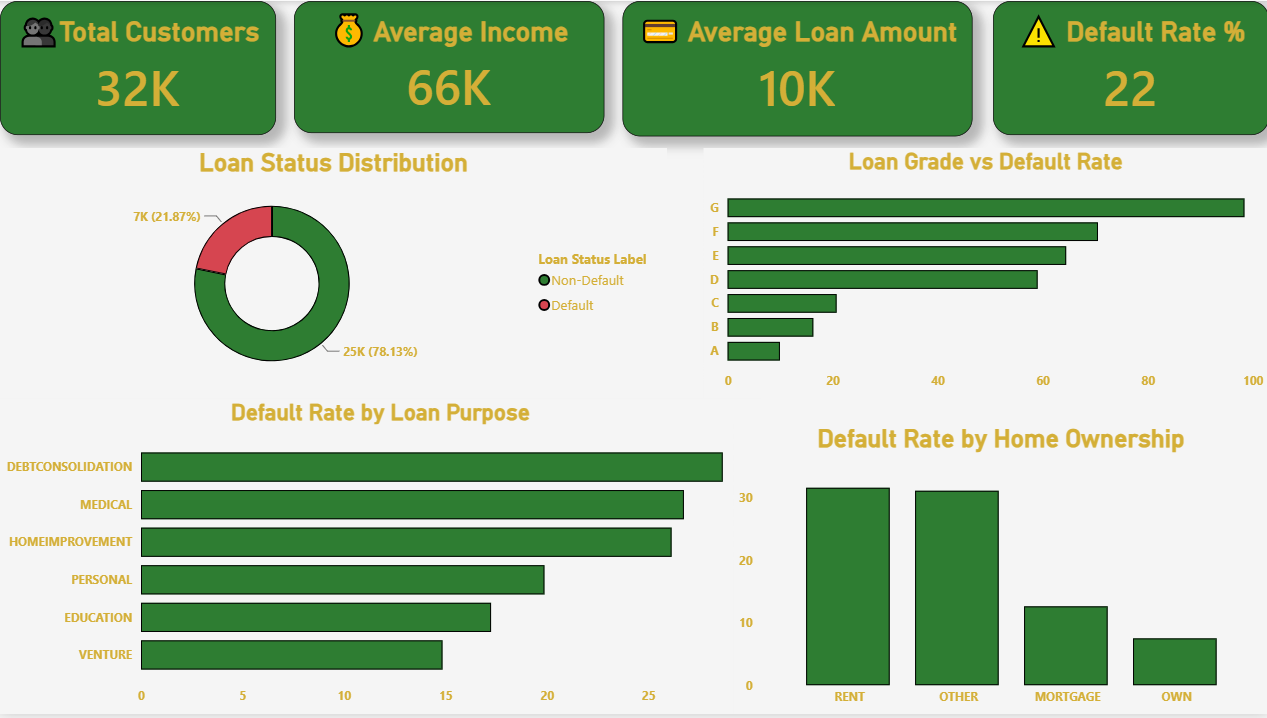

Layout of this report page (visuals, bound fields, positions):
{"tool":"powerbi","page":{"name":"Executive Summary","canvas":[1280,720],"ordinal":1},"visuals":[{"type":"cardVisual","title":"👥Total Customers","fields":{"Data":["Measurement.Total_customer"]},"box":[0,0,278.3,135],"z":0},{"type":"cardVisual","title":"⚠️ Default Rate %","fields":{"Data":["Measurement.defualt_rate"]},"box":[1001.7,0,278.3,135],"z":1000},{"type":"cardVisual","title":"💰 Average Income","fields":{"Data":["Measurement.Average Income"]},"box":[296.7,0,313.3,133.3],"z":2000},{"type":"cardVisual","title":"💳 Average Loan Amount","fields":{"Data":["Measurement.Average Loan Amount"]},"box":[628.3,0,353.3,136.7],"z":3000},{"type":"clusteredBarChart","title":"Loan Grade vs Default Rate","fields":{"Category":["credit_risk_dataset.loan_grade"],"Y":["Measurement.defualt_rate"]},"box":[710,148.3,570,253.3],"z":4000},{"type":"clusteredBarChart","title":"Default Rate by Loan Purpose","fields":{"Category":["credit_risk_dataset.loan_intent"],"Y":["Measurement.defualt_rate"]},"box":[0,401.7,768.3,318.3],"z":5000},{"type":"clusteredColumnChart","title":"Default Rate by Home Ownership","fields":{"Category":["credit_risk_dataset.person_home_ownership"],"Y":["Measurement.defualt_rate"]},"box":[740,426.7,540,293.3],"z":6000},{"type":"donutChart","title":"Loan Status Distribution","fields":{"Category":["credit_risk_dataset.Loan Status Label"],"Y":["Measurement.Total_customer"]},"box":[0,148.3,673.3,241.7],"z":7000}]}

Visuals, with their boxes in screenshot pixels (x1, y1, x2, y2), scaled from the page's 1280x720 canvas onto the 1267x718 screenshot:
"👥Total Customers" cardVisual: region(0, 0, 275, 135)
"⚠️ Default Rate %" cardVisual: region(992, 0, 1266, 135)
"💰 Average Income" cardVisual: region(294, 0, 604, 133)
"💳 Average Loan Amount" cardVisual: region(622, 0, 972, 136)
"Loan Grade vs Default Rate" clusteredBarChart: region(703, 148, 1266, 400)
"Default Rate by Loan Purpose" clusteredBarChart: region(0, 401, 760, 717)
"Default Rate by Home Ownership" clusteredColumnChart: region(732, 426, 1266, 717)
"Loan Status Distribution" donutChart: region(0, 148, 666, 389)
